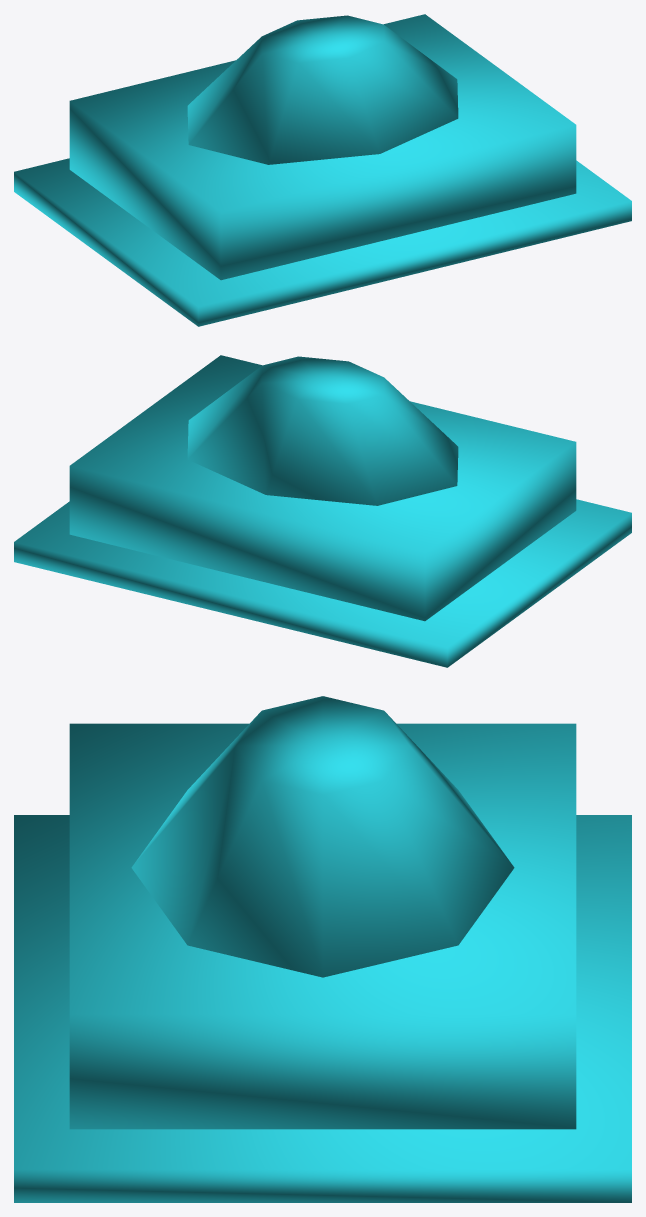
The model's file is shaper-cyber-visor.glb.
3 renders of one model, top to bottom at view 1: azimuth 30°, elevation 25°; view 2: azimuth 150°, elevation 25°; view 3: azimuth 270°, elevation 25°, orthographic. The views are drawn at different scales.
Visible parts, largest first — view 1: shaper-cyber-visor; view 2: shaper-cyber-visor; view 3: shaper-cyber-visor.
Boxes of the visible parts, x1=… form: shaper-cyber-visor: x1=14, y1=14, x2=631, y2=326; shaper-cyber-visor: x1=14, y1=355, x2=631, y2=667; shaper-cyber-visor: x1=14, y1=696, x2=631, y2=1202.
Size of the model in its own units: 0.19 by 0.07 by 0.14.
